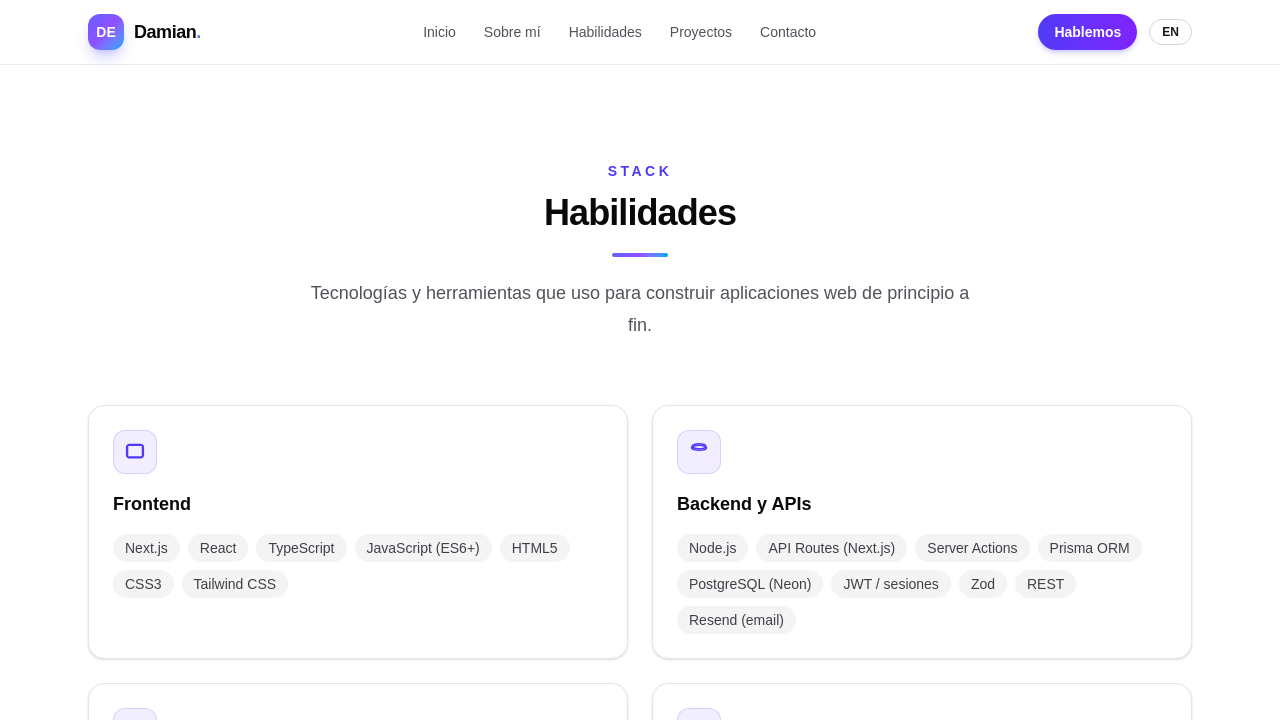
Scenario: Skills › cambia las categorías al alternar idioma
The width and height of the screenshot is (1280, 720).
Click the button with aria-label "Cambiar a inglés".
click(1171, 32)  # box [1149, 19, 1192, 45]
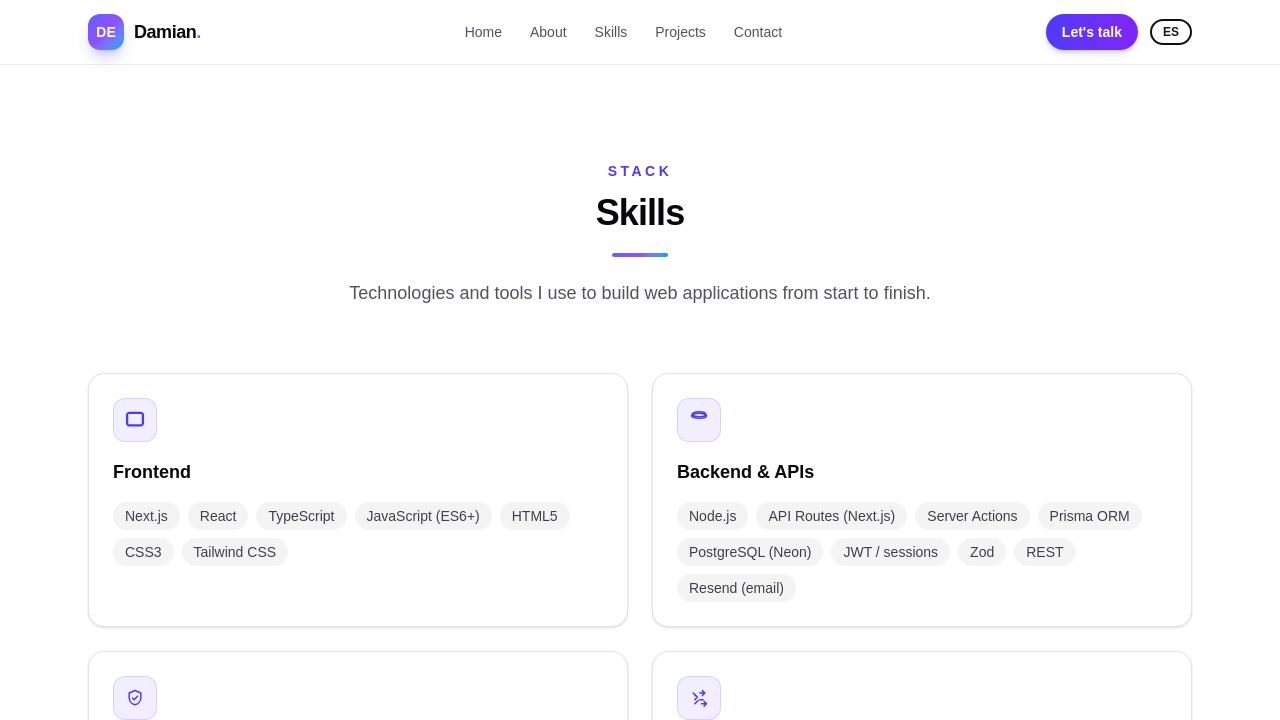
Expected: the heading "Frontend" is shown, [113, 462, 191, 482]
Expected: the heading "Skills" is shown, [596, 192, 684, 233]
